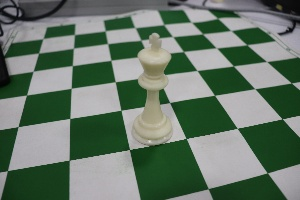white_king: (124, 21, 183, 150)
